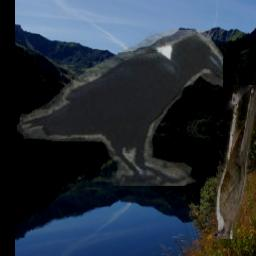Crow: (18, 31, 224, 187)
Cuckoo: (213, 86, 256, 240)
